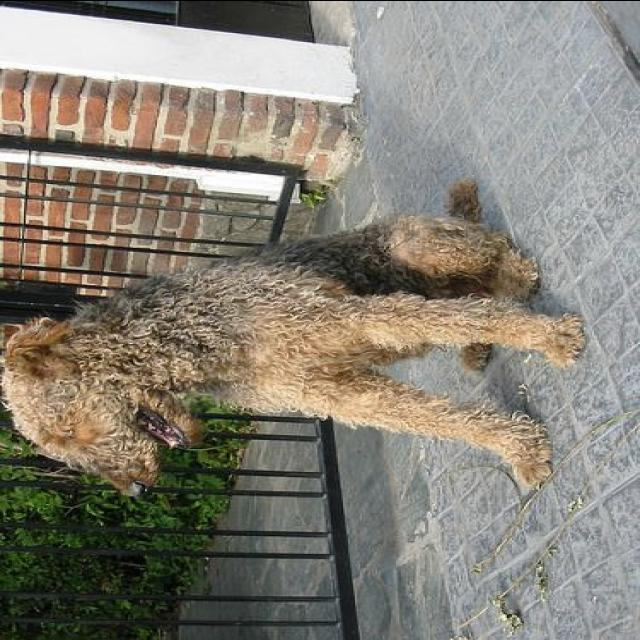airedale: (0, 177, 585, 495)
